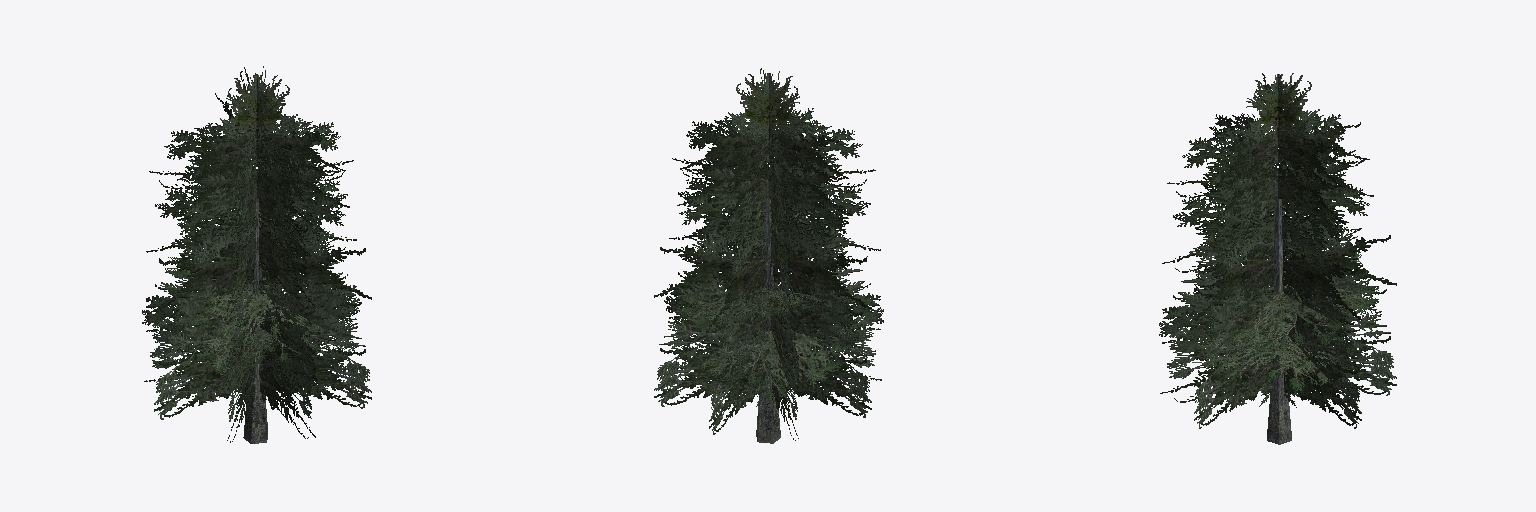
3 renders of one model, left to right at view 1: azimuth 30°, elevation 25°; view 2: azimuth 150°, elevation 25°; view 3: azimuth 270°, elevation 25°, orthographic.
Parts seen in each view (by area): view 1: studio.tree_pine.mesh_2, studio.tree_pine.mesh_1, studio.tree_pine.mesh_0; view 2: studio.tree_pine.mesh_2, studio.tree_pine.mesh_1, studio.tree_pine.mesh_0; view 3: studio.tree_pine.mesh_2, studio.tree_pine.mesh_1, studio.tree_pine.mesh_0.
Part boxes in pixels (left/top/right/bottom): studio.tree_pine.mesh_2: left=142, top=66, right=371, bottom=442; studio.tree_pine.mesh_1: left=160, top=257, right=336, bottom=373; studio.tree_pine.mesh_0: left=243, top=198, right=267, bottom=443; studio.tree_pine.mesh_2: left=654, top=68, right=883, bottom=440; studio.tree_pine.mesh_1: left=680, top=288, right=860, bottom=403; studio.tree_pine.mesh_0: left=756, top=198, right=780, bottom=443; studio.tree_pine.mesh_2: left=1159, top=73, right=1396, bottom=428; studio.tree_pine.mesh_1: left=1190, top=249, right=1378, bottom=393; studio.tree_pine.mesh_0: left=1267, top=198, right=1291, bottom=444.
Size of the model in its own units: 3.09 by 5.23 by 3.15.
Materials: 3 (3 with a texture image).